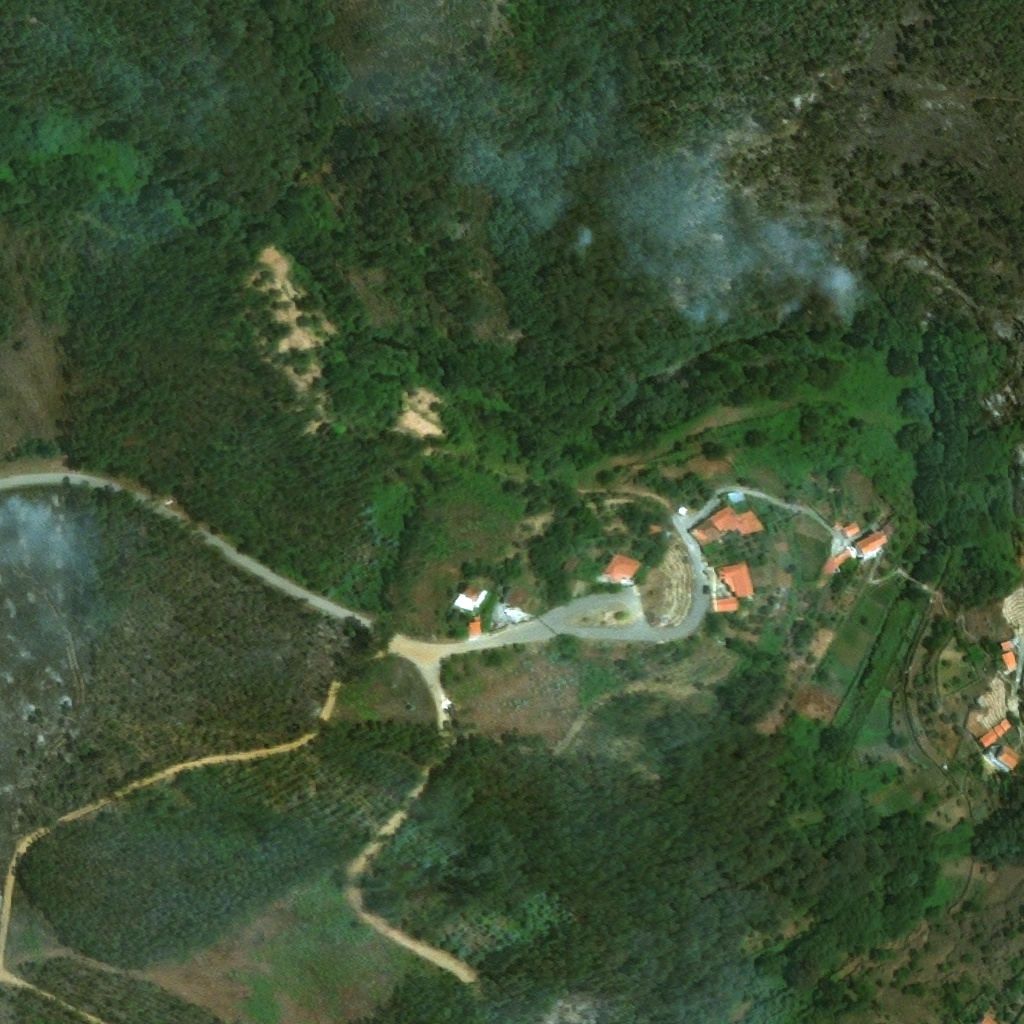0 no-damage: (687, 504, 763, 549), (714, 560, 755, 596), (597, 553, 640, 583), (453, 583, 489, 613), (856, 531, 888, 561), (820, 551, 850, 579), (503, 587, 529, 611), (996, 745, 1020, 770), (713, 597, 740, 613), (978, 731, 999, 751), (641, 519, 664, 537), (1001, 651, 1019, 671), (841, 522, 860, 538), (467, 617, 482, 637), (974, 695, 989, 709), (1000, 640, 1016, 652), (992, 725, 1006, 738), (1000, 719, 1013, 733), (675, 506, 687, 518)
